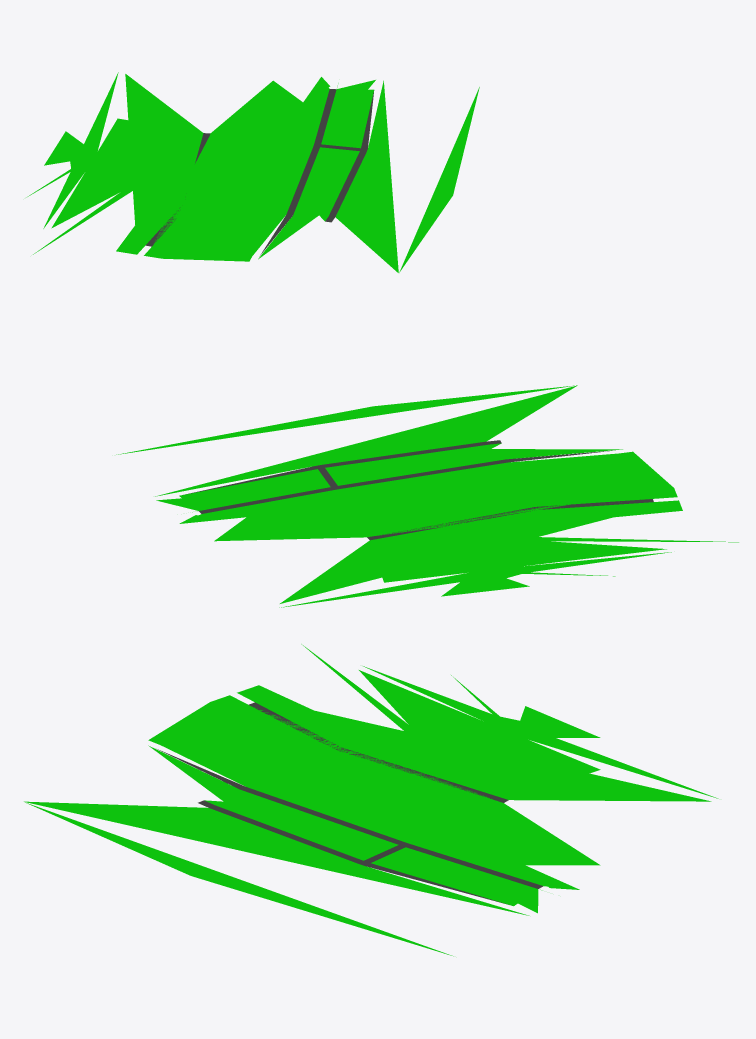
3 views of the same model, one above another, from view 1: azimuth 30°, elevation 25°; view 2: azimuth 150°, elevation 25°; view 3: azimuth 270°, elevation 25° (orthographic). The views are drawn at different scales.
Bounding box in the file's own units: 360 × 0 × 290.
